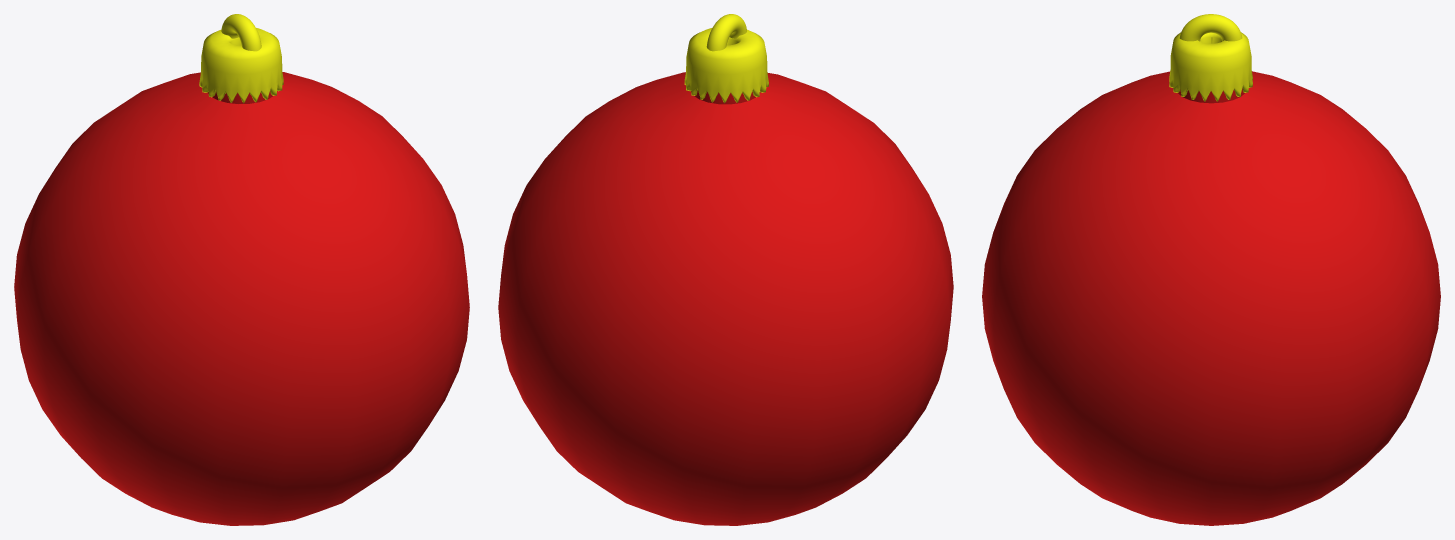
Rendered from Foco5.obj.
3 renders of one model, left to right at view 1: azimuth 30°, elevation 25°; view 2: azimuth 150°, elevation 25°; view 3: azimuth 270°, elevation 25°, orthographic.
Parts seen in each view (by area): view 1: Foco:Glass_Ball1Red_Bulb, Foco:Red_Bulbtop_crownpPipe2, Foco:Red_BulbpTorus1top_crown; view 2: Foco:Glass_Ball1Red_Bulb, Foco:Red_Bulbtop_crownpPipe2, Foco:Red_BulbpTorus1top_crown; view 3: Foco:Glass_Ball1Red_Bulb, Foco:Red_Bulbtop_crownpPipe2, Foco:Red_BulbpTorus1top_crown.
Part boxes in pixels (x1,y1,x2,y2): Foco:Glass_Ball1Red_Bulb: (14, 72, 469, 525); Foco:Red_Bulbtop_crownpPipe2: (199, 28, 283, 103); Foco:Red_BulbpTorus1top_crown: (221, 14, 261, 51); Foco:Glass_Ball1Red_Bulb: (498, 72, 953, 525); Foco:Red_Bulbtop_crownpPipe2: (684, 28, 768, 103); Foco:Red_BulbpTorus1top_crown: (706, 14, 746, 51); Foco:Glass_Ball1Red_Bulb: (982, 71, 1440, 525); Foco:Red_Bulbtop_crownpPipe2: (1169, 32, 1252, 101); Foco:Red_BulbpTorus1top_crown: (1179, 14, 1242, 41).
Size of the model in its own units: 13.51 by 15.9 by 13.51.
Materials: 2 (2 with a texture image).
